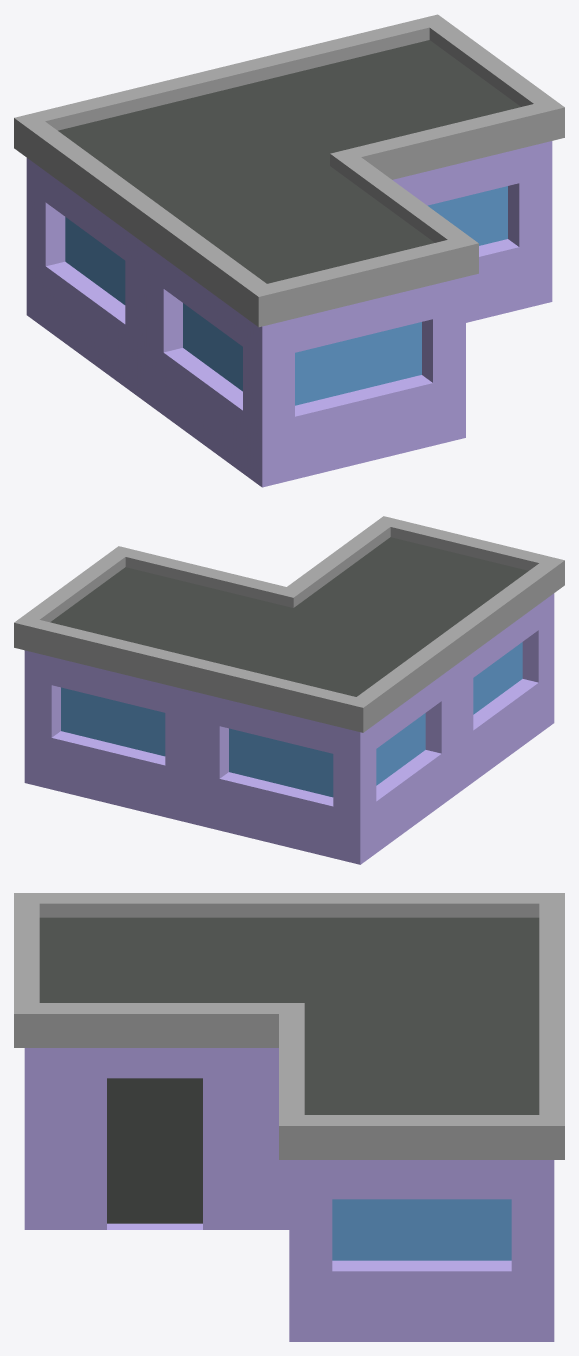
Rendered from building_L_0_g.glb.
3 views of the same model, one above another, from view 1: azimuth 30°, elevation 25°; view 2: azimuth 150°, elevation 25°; view 3: azimuth 270°, elevation 25° (orthographic). The views are drawn at different scales.
Parts seen in each view (by area): view 1: Cube; view 2: Cube; view 3: Cube.
Part boxes in pixels (x1,y1,x2,y2): Cube: (14, 14, 564, 487); Cube: (14, 516, 564, 864); Cube: (14, 893, 564, 1341).
Bounding box in the file's own units: 3.62 × 1.6 × 3.62.
